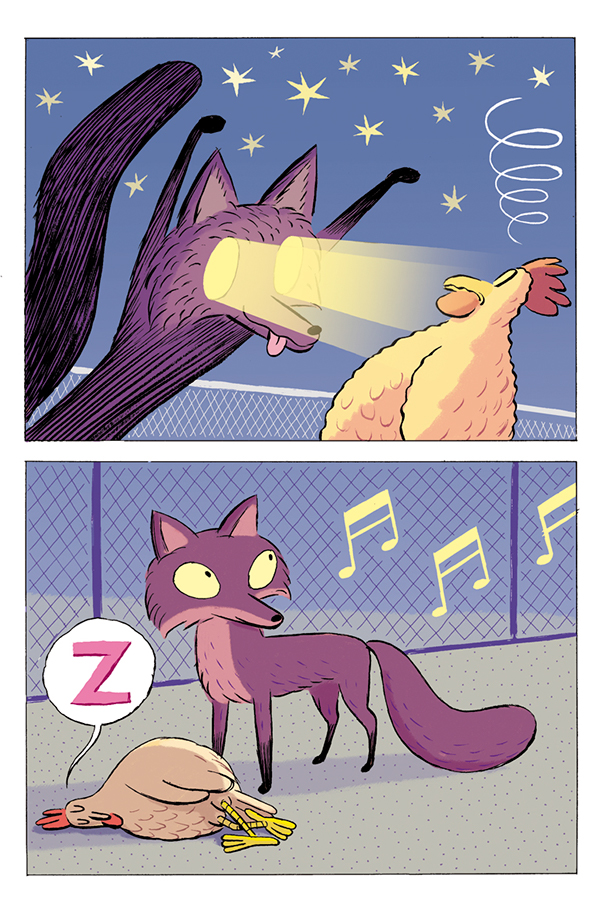bird: (287, 221, 575, 471), (29, 735, 306, 860)
